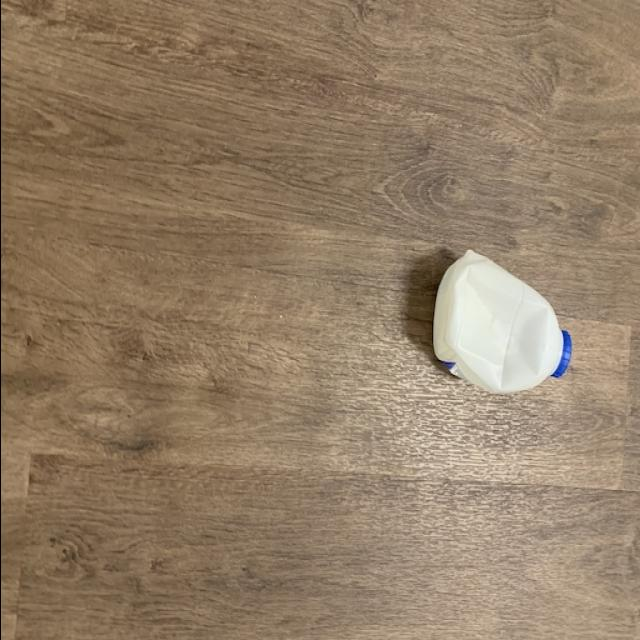HDPEM: (424, 258, 570, 407)
